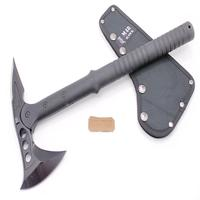knife: (15, 13, 197, 192)
